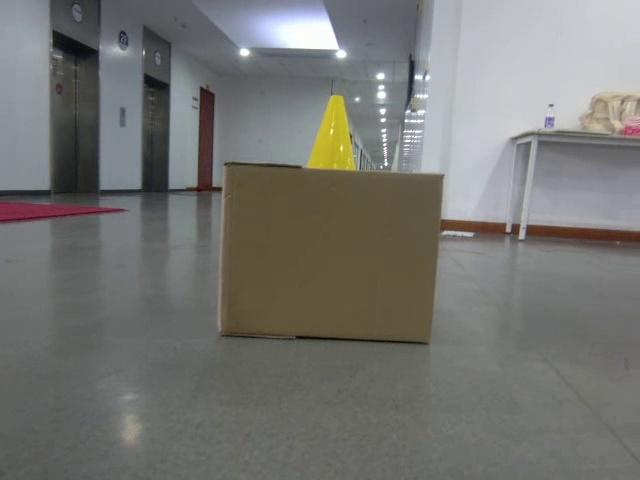yellow_barrel: (305, 94, 366, 171)
